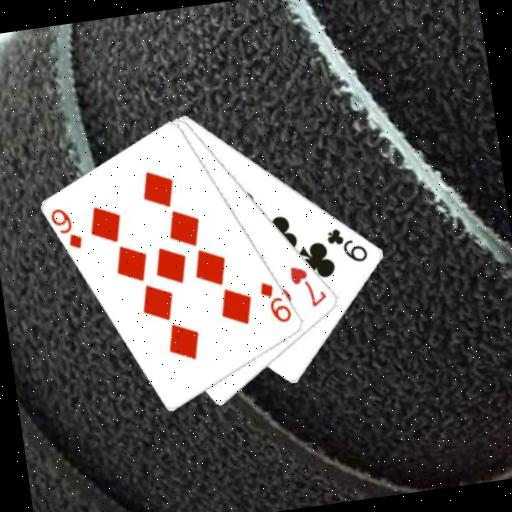7H: (286, 259, 331, 312)
9C: (323, 222, 372, 269)
9D: (256, 276, 295, 328), (48, 203, 86, 254)
